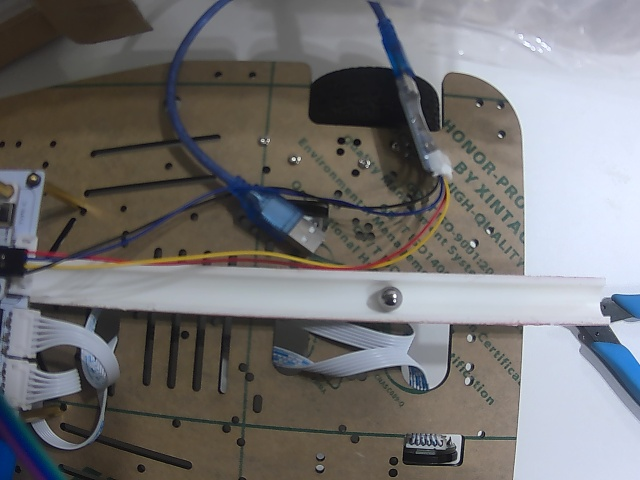steelball: (376, 286, 403, 311)
